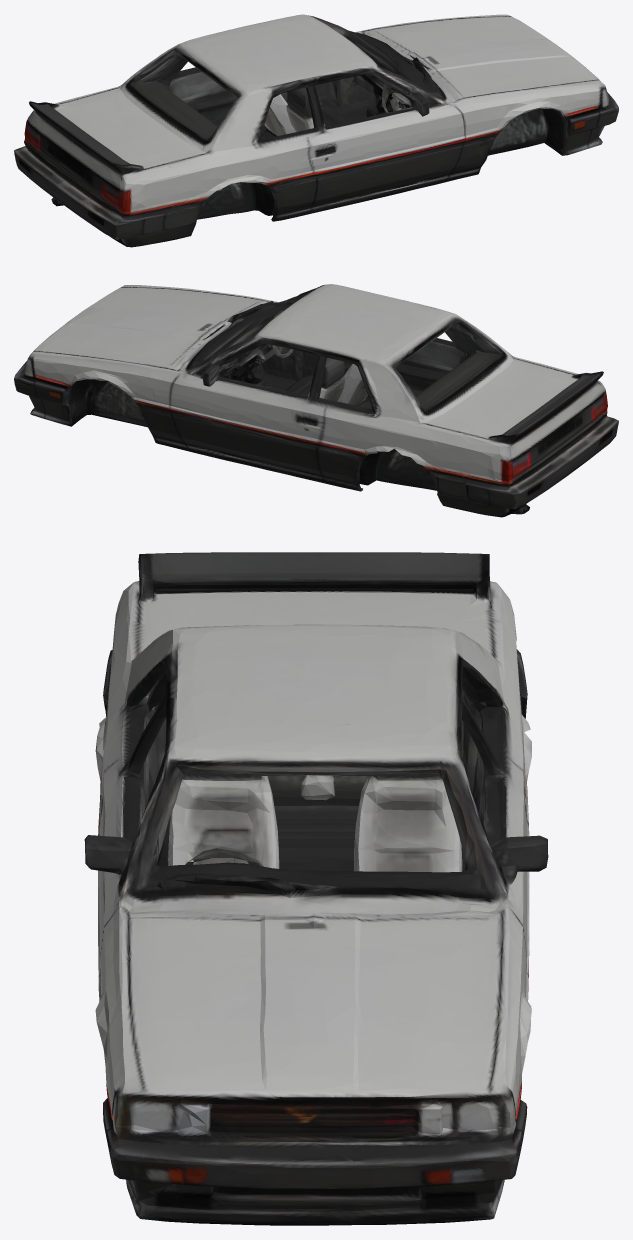
The model's file is body.glb.
3 renders of one model, top to bottom at view 1: azimuth 30°, elevation 25°; view 2: azimuth 150°, elevation 25°; view 3: azimuth 270°, elevation 25°, orthographic. The views are drawn at different scales.
Parts seen in each view (by area): view 1: tripo_node_044a189b-ad8e-4209-a4f5-ad1fc3dcb98f; view 2: tripo_node_044a189b-ad8e-4209-a4f5-ad1fc3dcb98f; view 3: tripo_node_044a189b-ad8e-4209-a4f5-ad1fc3dcb98f.
Boxes of the visible parts, <box> form: tripo_node_044a189b-ad8e-4209-a4f5-ad1fc3dcb98f: <box>14,14,618,247</box>; tripo_node_044a189b-ad8e-4209-a4f5-ad1fc3dcb98f: <box>14,284,618,517</box>; tripo_node_044a189b-ad8e-4209-a4f5-ad1fc3dcb98f: <box>84,552,548,1225</box>.
Size of the model in its own units: 4.6 by 1.28 by 1.78.
1 material, 1 textured.
